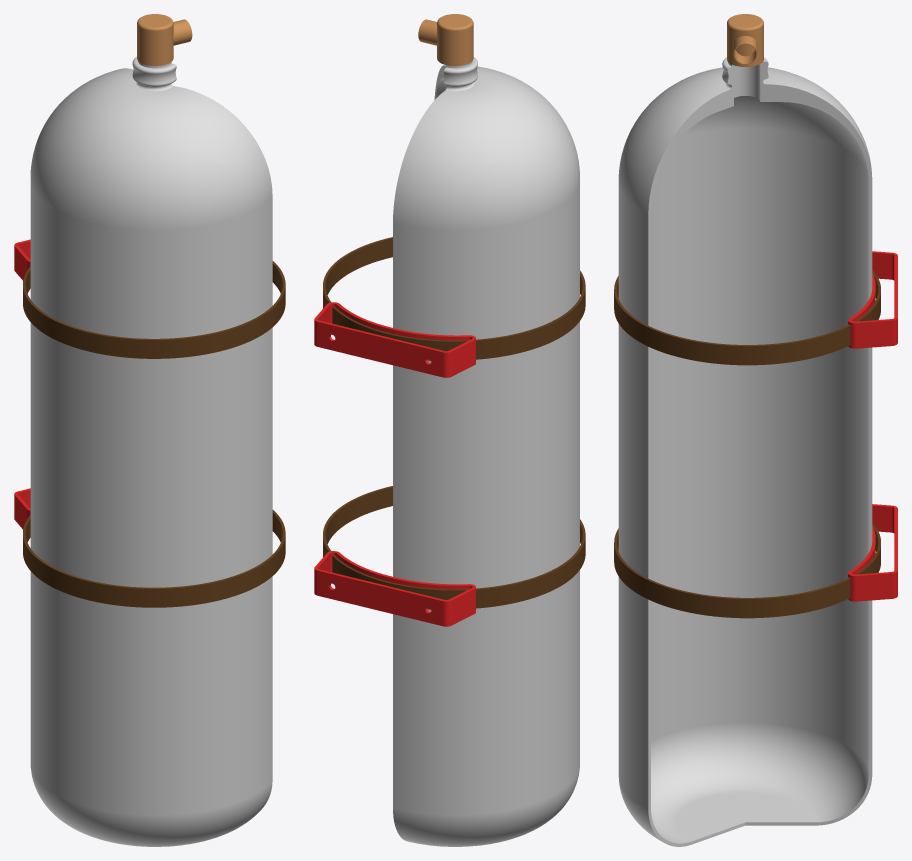
File: helium-tank.glb
3 views of the same model, side by side, from view 1: azimuth 30°, elevation 25°; view 2: azimuth 150°, elevation 25°; view 3: azimuth 270°, elevation 25° (orthographic).
Size of the model in its own units: 0.2406 by 0.8001 by 0.2557.
